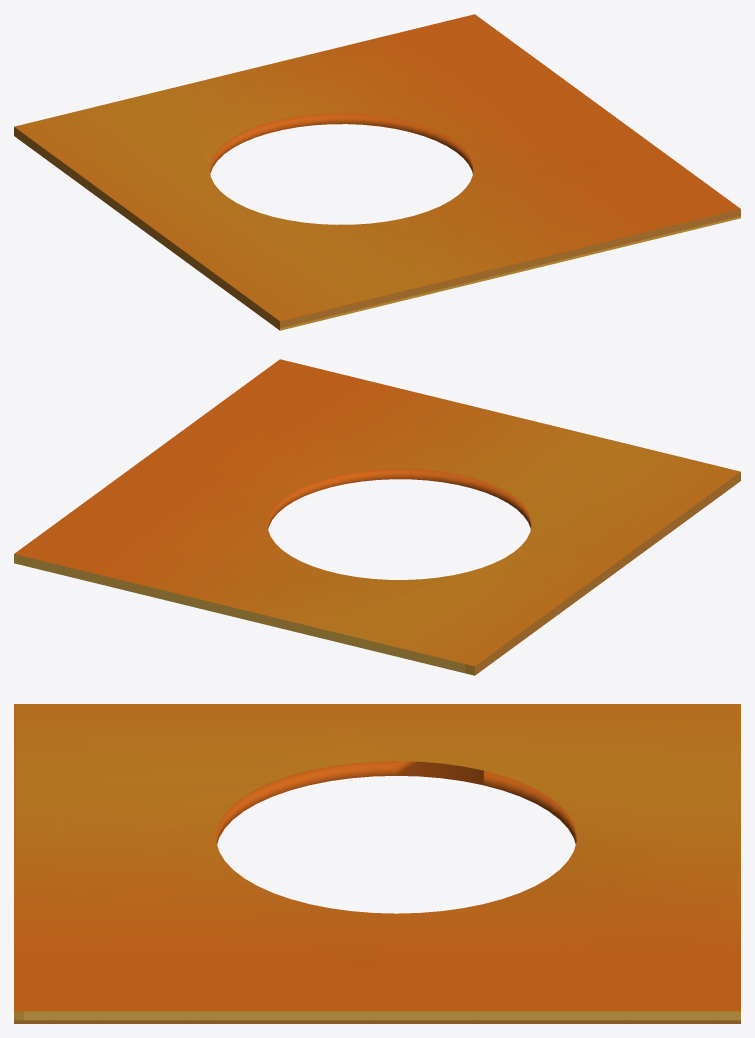
The model's file is ceiling.fbx.
3 renders of one model, top to bottom at view 1: azimuth 30°, elevation 25°; view 2: azimuth 150°, elevation 25°; view 3: azimuth 270°, elevation 25°, orthographic. The views are drawn at different scales.
Visible parts, largest first — view 1: pCube21; view 2: pCube21; view 3: pCube21.
Boxes of the visible parts, x1,y1,x2,y2 form: pCube21: (14,14,740,330); pCube21: (14,359,740,675); pCube21: (14,704,740,1023).
Bounding box in the file's own units: 45.79 × 1.03 × 45.79.
